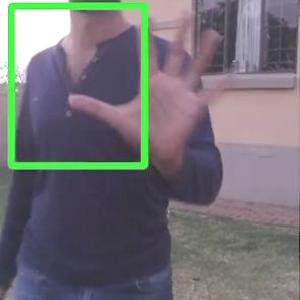follow_hand: (65, 5, 240, 166)
